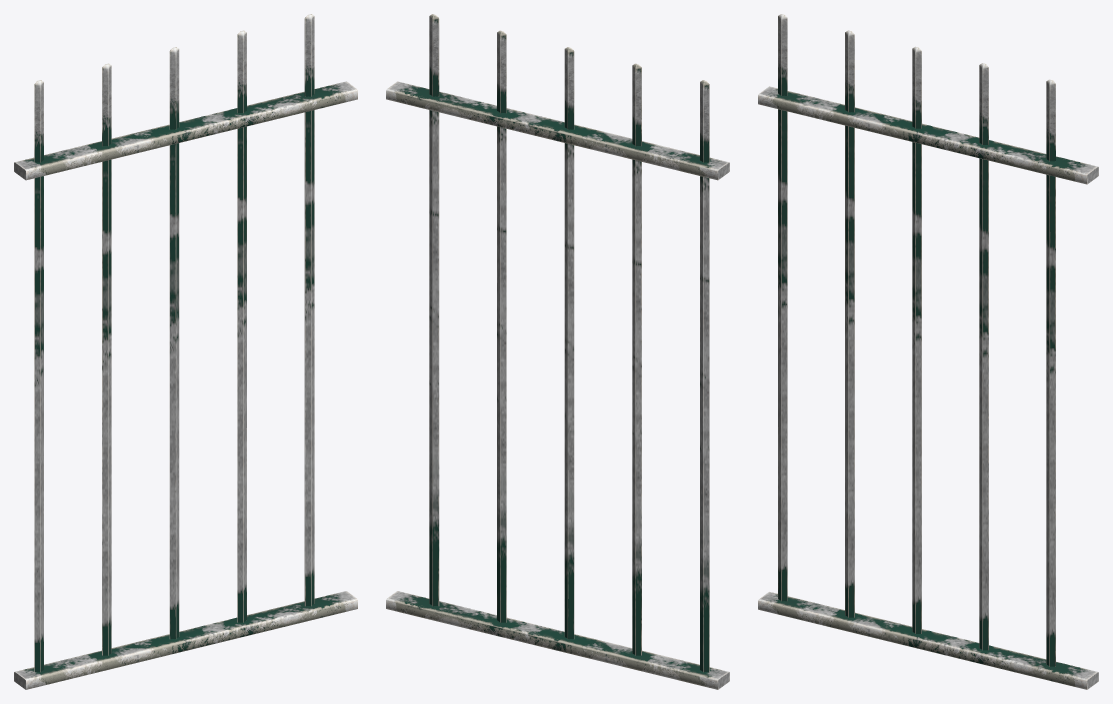
Rendered from fence.fbx.
The picture shows the model from 3 angles, left to right: view 1: azimuth 30°, elevation 25°; view 2: azimuth 150°, elevation 25°; view 3: azimuth 330°, elevation 25°; orthographic projection.
Parts seen in each view (by area): view 1: fence; view 2: fence; view 3: fence.
Boxes of the visible parts, x1,y1,x2,y2 form: fence: [14, 14, 357, 689]; fence: [386, 14, 729, 689]; fence: [758, 14, 1098, 689].
Size of the model in its own units: 104 by 180 by 6.51.
Materials: 1 (1 with a texture image).
